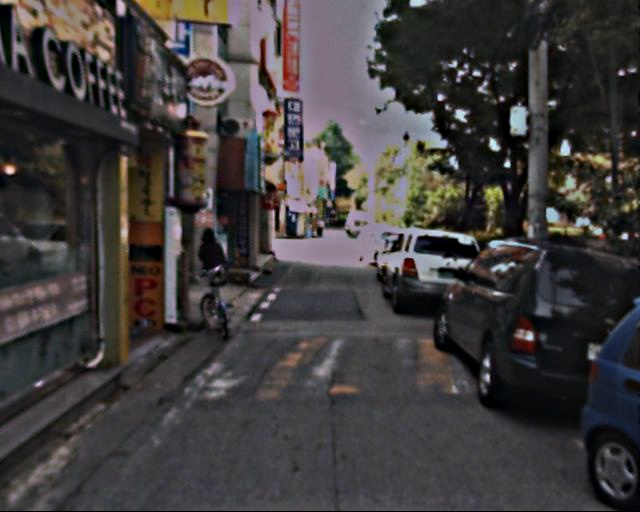person: (193, 224, 230, 311)
